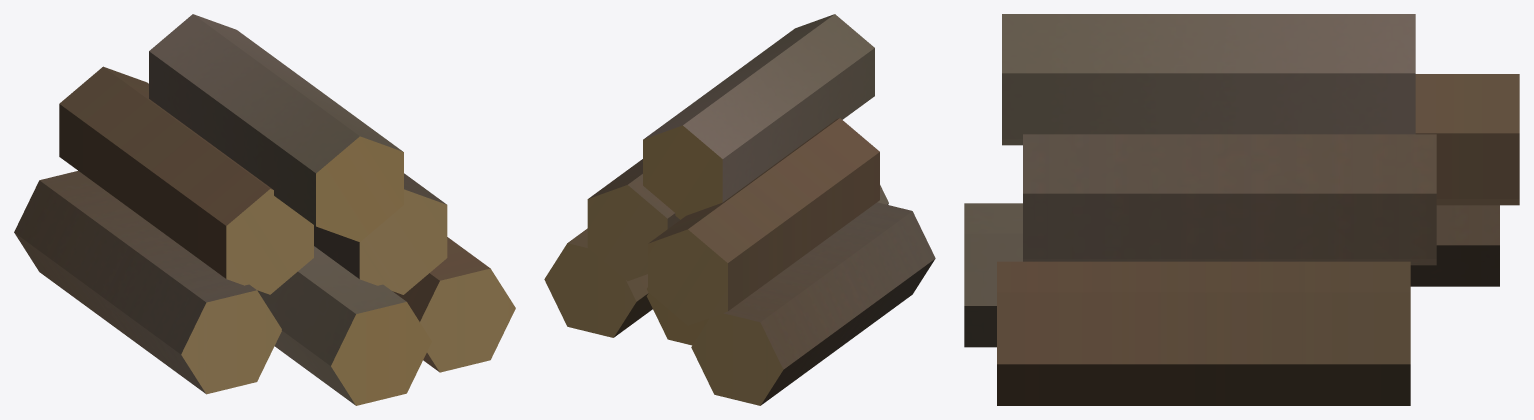
Rendered from SM_Lumber.FBX.
3 renders of one model, left to right at view 1: azimuth 30°, elevation 25°; view 2: azimuth 150°, elevation 25°; view 3: azimuth 270°, elevation 25°, orthographic. The views are drawn at different scales.
Parts seen in each view (by area): view 1: SM_Lumber; view 2: SM_Lumber; view 3: SM_Lumber.
Boxes of the visible parts, bbox=[...] form: SM_Lumber: bbox=[14, 14, 515, 405]; SM_Lumber: bbox=[544, 14, 935, 405]; SM_Lumber: bbox=[964, 14, 1519, 405].
Size of what is drawn, in the model's own units: 103 by 134 by 83.84.
